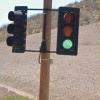traffic lights: (56, 5, 80, 57), (6, 5, 26, 53)
